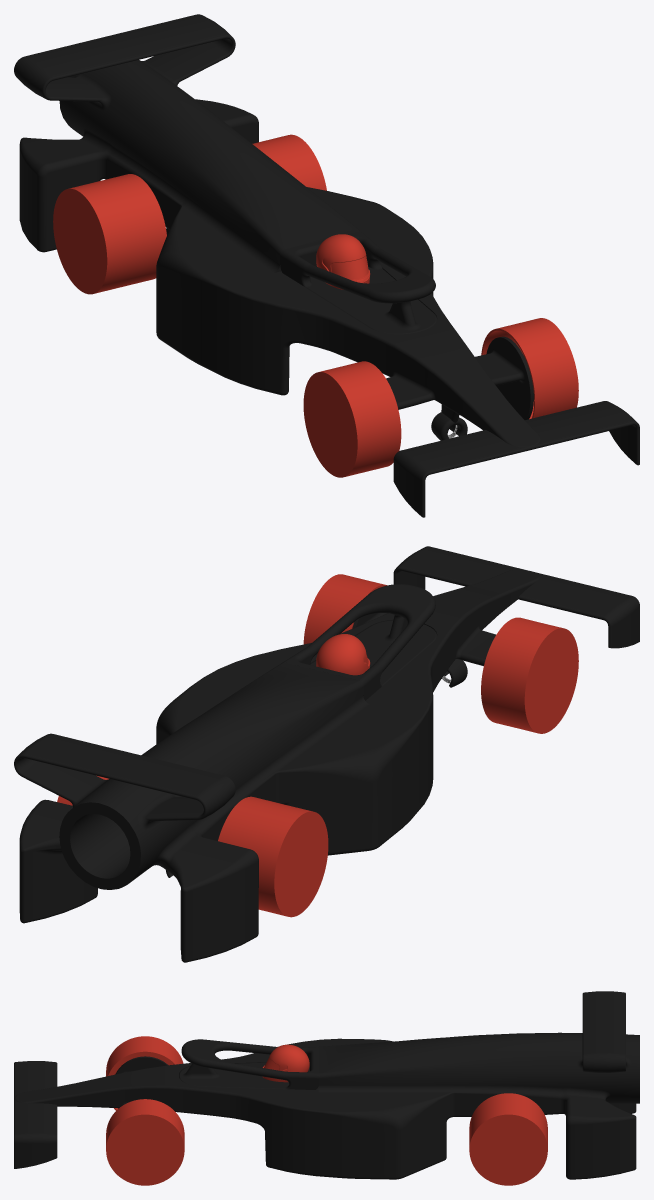
Rendered from caravel-v1.fbx.
The picture shows the model from 3 angles, top to bottom: view 1: azimuth 30°, elevation 25°; view 2: azimuth 150°, elevation 25°; view 3: azimuth 270°, elevation 25°; orthographic projection. The views are drawn at different scales.
Parts seen in each view (by area): view 1: Body1 (×5), Body2 (×3), Body3; view 2: Body1 (×4), Body2 (×3), Body3; view 3: Body1 (×5), Body2 (×2), Body3.
Boxes of the visible parts, x1=… form: Body1 (×5): x1=19, y1=99, x2=578, y2=440; Body2 (×3): x1=14, y1=14, x2=401, y2=477; Body3: x1=393, y1=374, x2=639, y2=517; Body1 (×4): x1=19, y1=574, x2=499, y2=962; Body2 (×3): x1=14, y1=617, x2=578, y2=917; Body3: x1=393, y1=546, x2=639, y2=648; Body1 (×5): x1=87, y1=1038, x2=639, y2=1185; Body2 (×2): x1=106, y1=991, x2=639, y2=1110; Body3: x1=14, y1=1061, x2=106, y2=1168.
Bounding box in the file's own units: 66.3 × 49.03 × 224.
